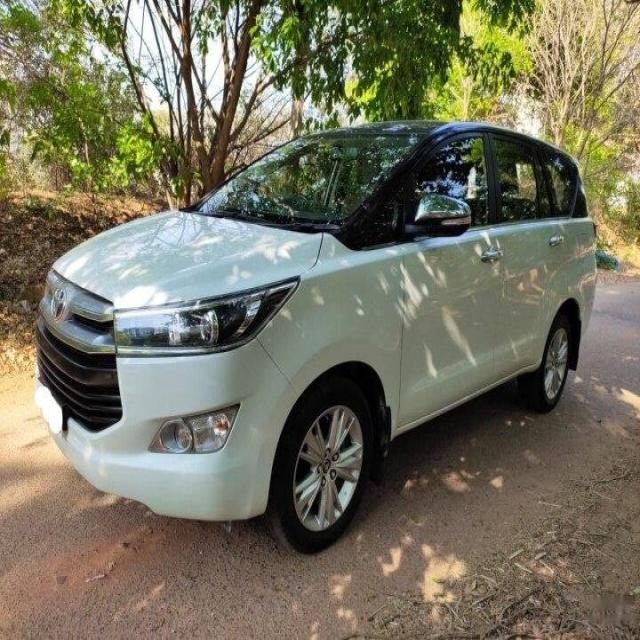light_vehicle: (33, 118, 599, 556)
